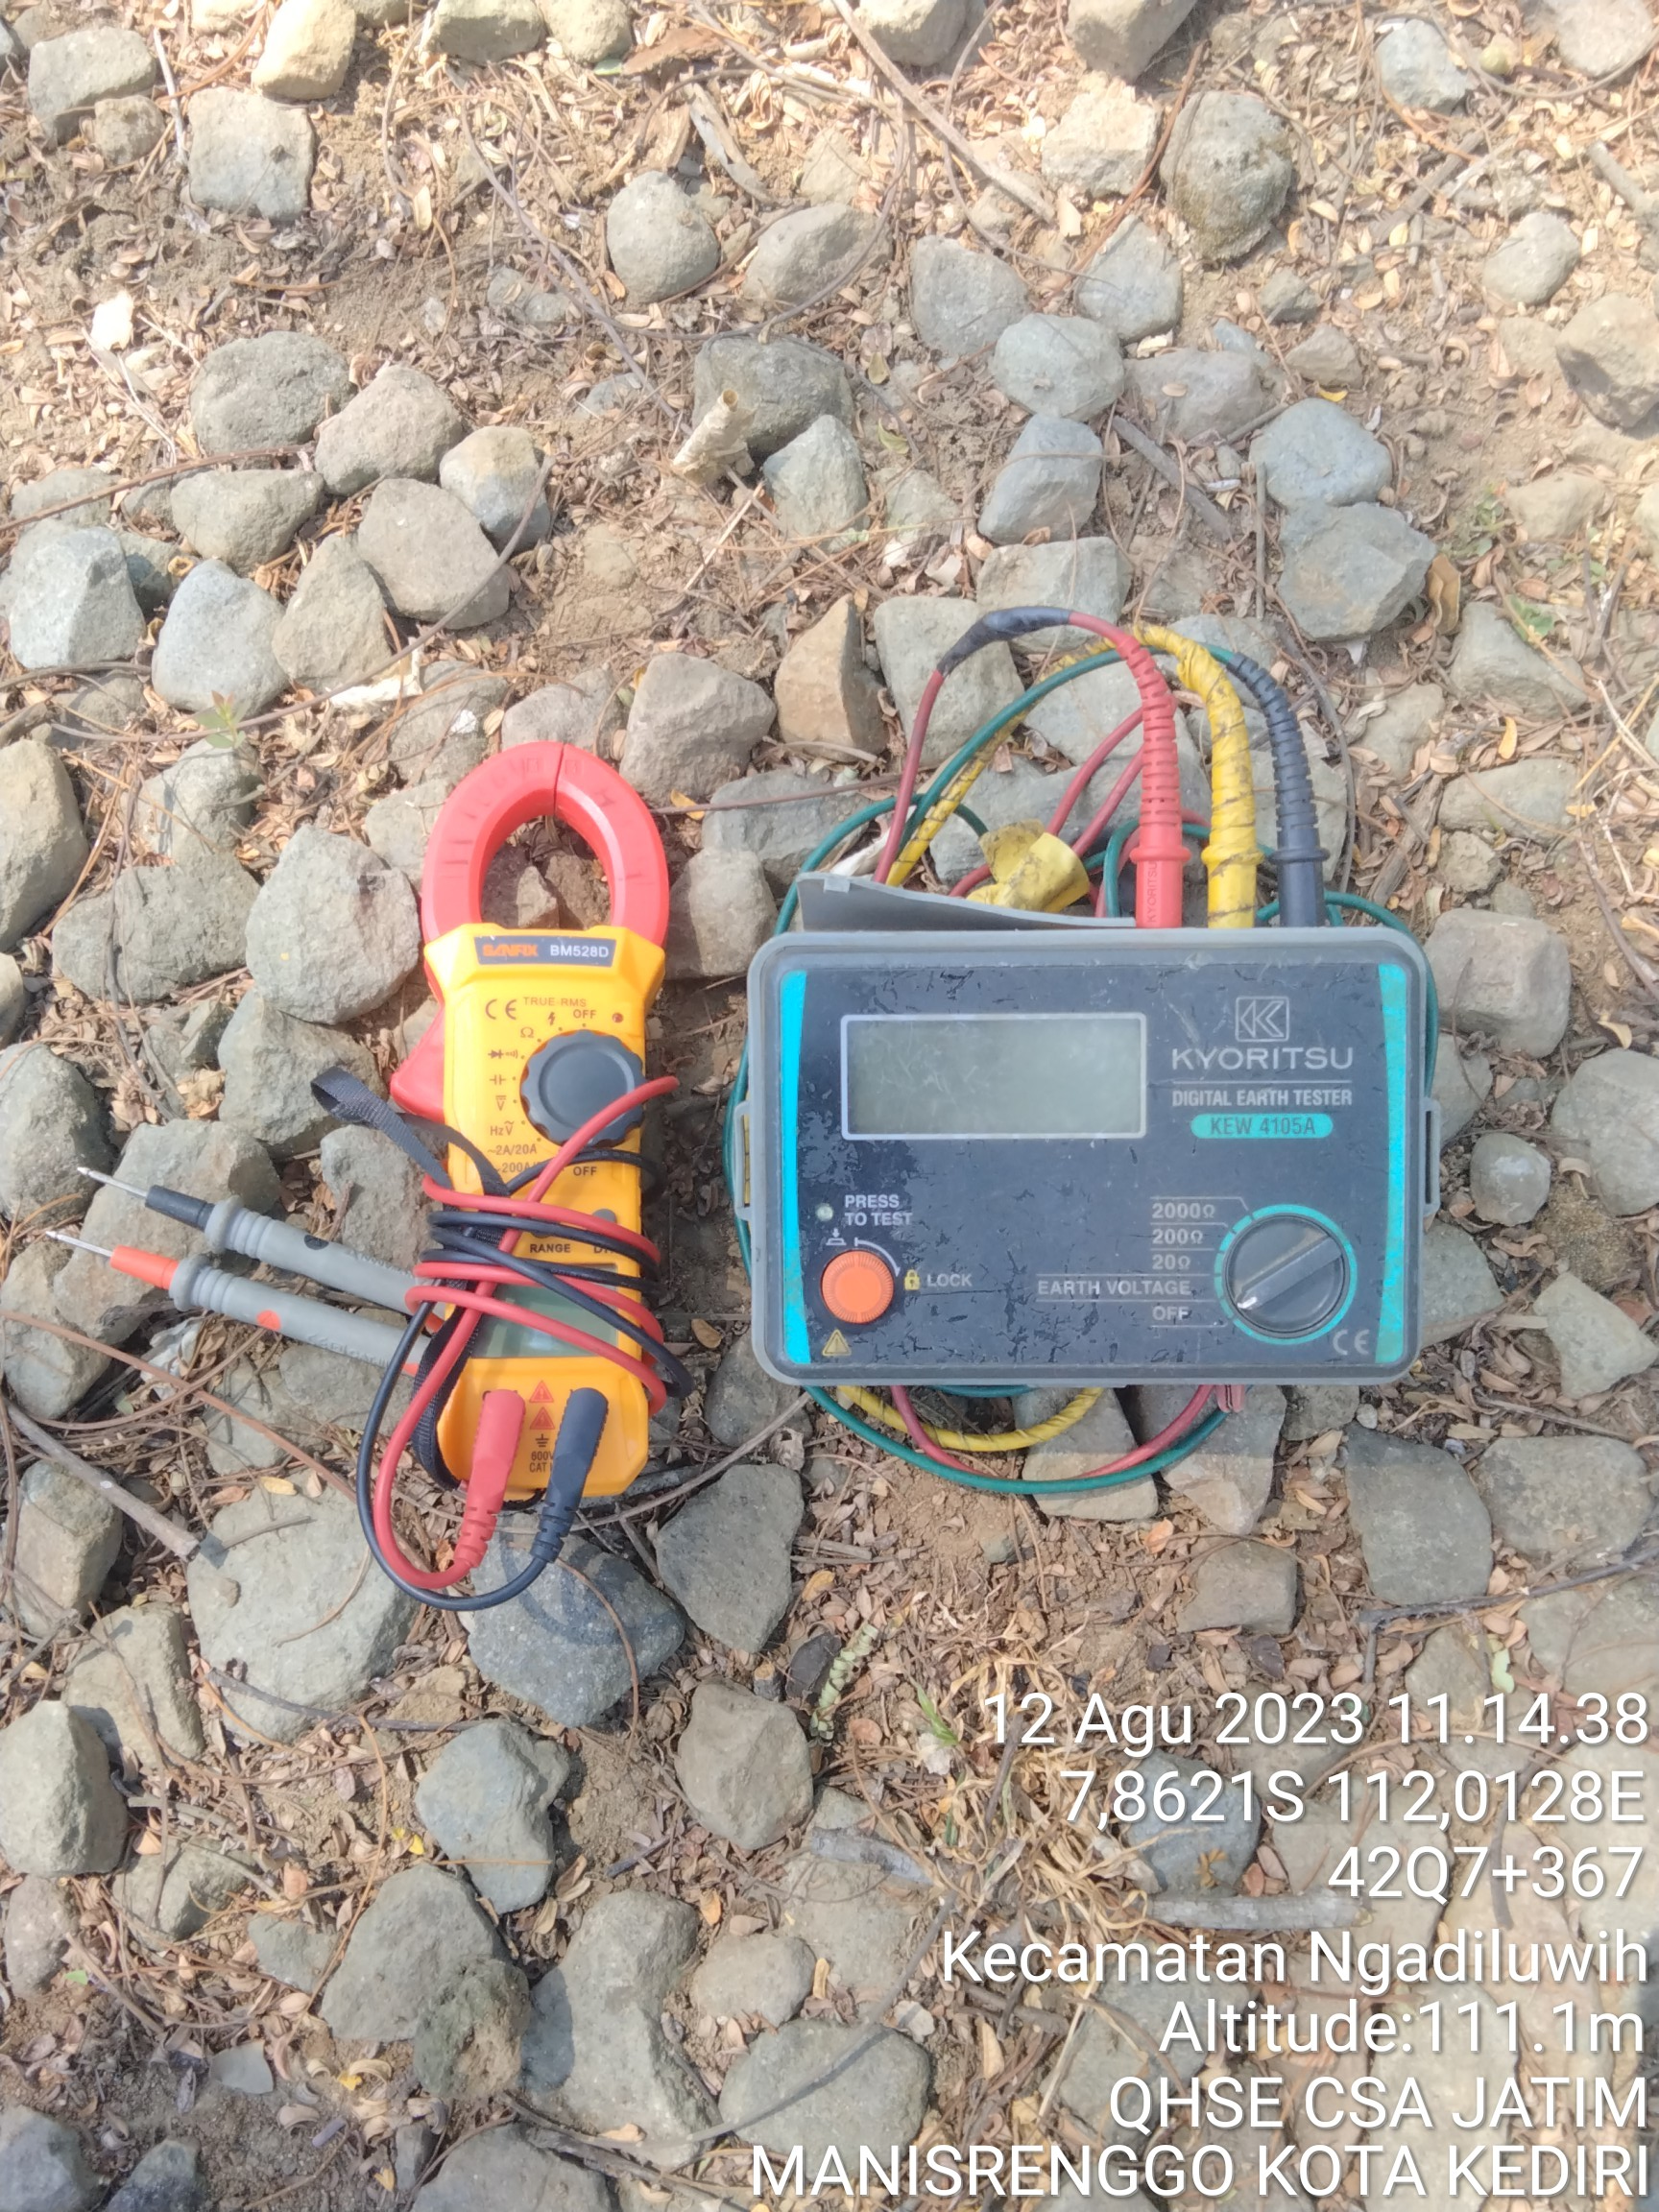EARTH_GROUNDING_TESTER: (739, 869, 1441, 1392)
TANG_AMPERE: (387, 738, 673, 1498)
